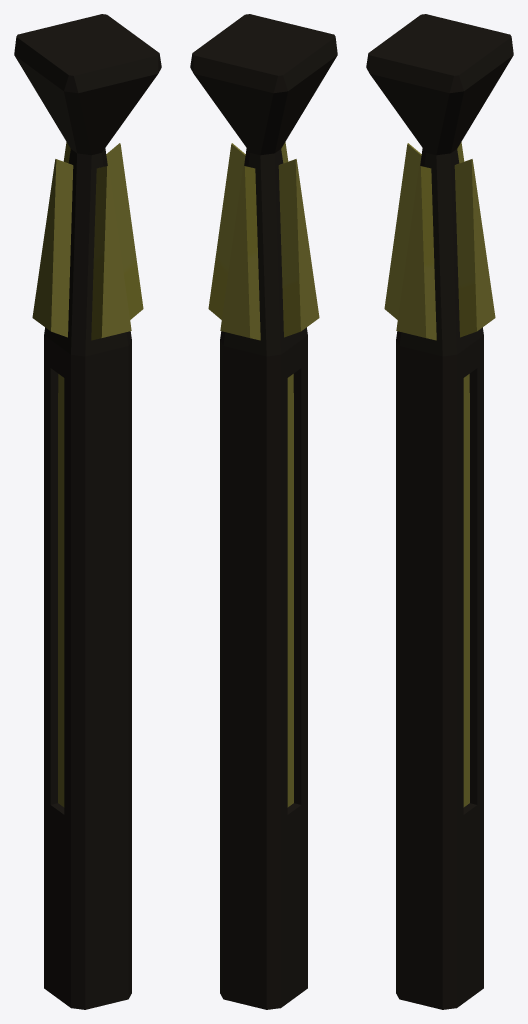
Rendered from Stolb2.fbx.
3 views of the same model, side by side, from view 1: azimuth 30°, elevation 25°; view 2: azimuth 150°, elevation 25°; view 3: azimuth 330°, elevation 25° (orthographic).
Parts seen in each view (by area): view 1: Cube.001; view 2: Cube.001; view 3: Cube.001.
Boxes of the visible parts, x1,y1,x2,y2 form: Cube.001: (14,14,161,1009); Cube.001: (190,14,337,1009); Cube.001: (366,14,513,1009).
Bounding box in the file's own units: 128 × 1181 × 138.
